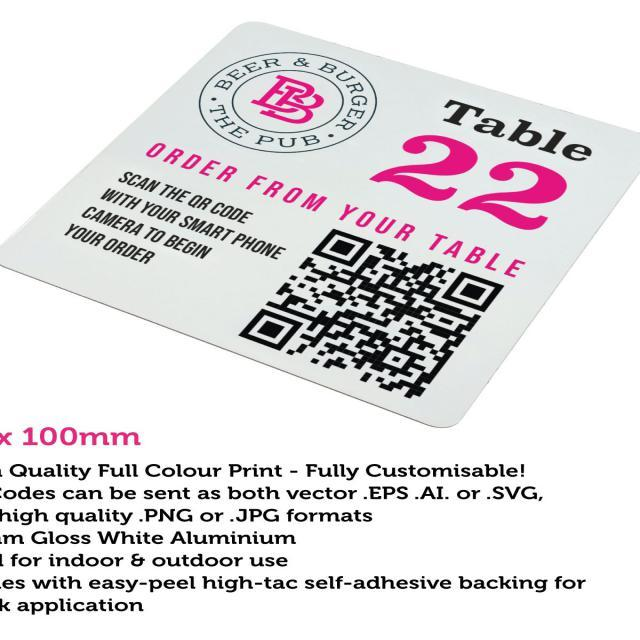qr_code: (238, 227, 504, 402)
